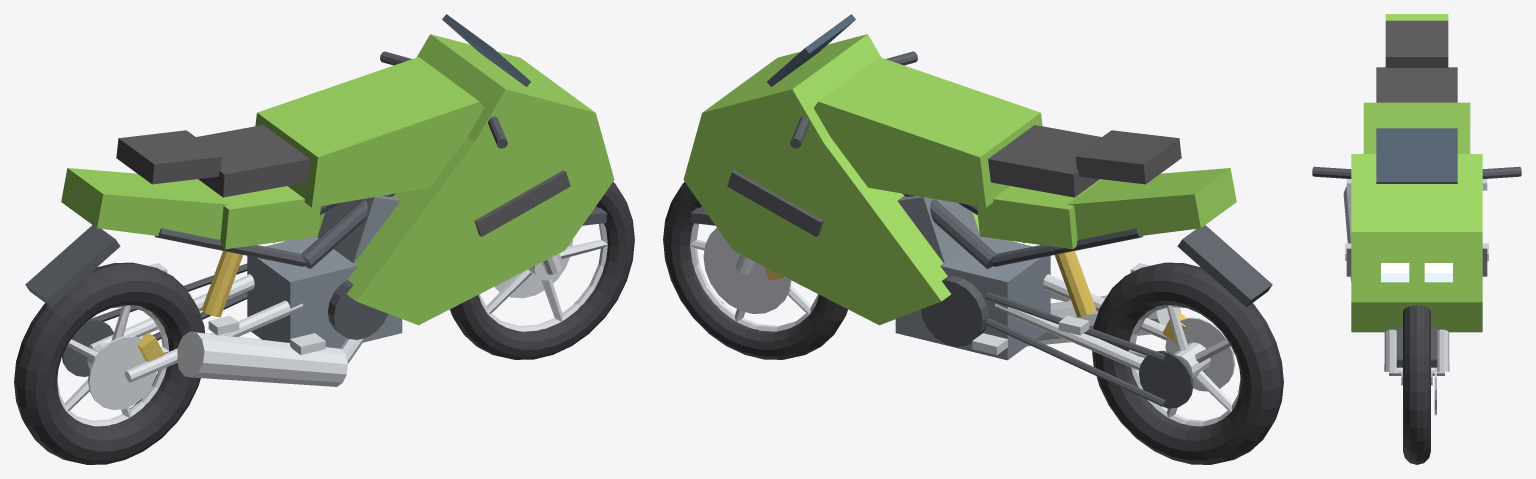
The model's file is kawasaki-ninja-zx-25r-2021-2026.glb.
3 views of the same model, side by side, from view 1: azimuth 30°, elevation 25°; view 2: azimuth 150°, elevation 25°; view 3: azimuth 270°, elevation 25° (orthographic). The views are drawn at different scales.
Parts seen in each view (by area): view 1: Bodi_Depan, Bodi_Utama, Roda_Ban, Mesin_Blok, Jok_Motor, Knalpot, Velg_Roda, Piringan_Rem, Spakbor, Rangka, Swing_Arm, Rantai (+6 smaller); view 2: Bodi_Depan, Bodi_Utama, Roda_Ban, Jok_Motor, Mesin_Blok, Piringan_Rem, Rantai, Velg_Roda, Spakbor, Rangka, Cover_Mesin, Swing_Arm (+6 smaller); view 3: Bodi_Depan, Jok_Motor, Windshield_Visor, Roda_Ban, Bodi_Utama, Suspensi_Depan, Lampu_Depan, Master_Rem_Stang, Spakbor, Knalpot, Aksen_Bodi, Footstep.
Part boxes in pixels (x1=…): Bodi_Depan: x1=284, y1=34, x2=614, y2=325; Bodi_Utama: x1=61, y1=57, x2=484, y2=249; Roda_Ban: x1=14, y1=182, x2=634, y2=464; Mesin_Blok: x1=247, y1=196, x2=402, y2=348; Jok_Motor: x1=116, y1=125, x2=309, y2=197; Knalpot: x1=177, y1=331, x2=365, y2=386; Velg_Roda: x1=57, y1=223, x2=607, y2=426; Piringan_Rem: x1=88, y1=240, x2=572, y2=409; Spakbor: x1=25, y1=207, x2=607, y2=307; Rangka: x1=155, y1=193, x2=395, y2=268; Swing_Arm: x1=89, y1=274, x2=303, y2=382; Rantai: x1=62, y1=263, x2=247, y2=376; Bodi_Depan: x1=683, y1=34, x2=1013, y2=325; Bodi_Utama: x1=813, y1=57, x2=1236, y2=249; Roda_Ban: x1=663, y1=182, x2=1283, y2=464; Jok_Motor: x1=988, y1=125, x2=1181, y2=197; Mesin_Blok: x1=895, y1=196, x2=1050, y2=360; Piringan_Rem: x1=703, y1=228, x2=1235, y2=391; Rantai: x1=985, y1=292, x2=1193, y2=408; Velg_Roda: x1=690, y1=223, x2=1240, y2=426; Spakbor: x1=690, y1=207, x2=1272, y2=307; Rangka: x1=902, y1=193, x2=1142, y2=268; Cover_Mesin: x1=921, y1=276, x2=988, y2=346; Swing_Arm: x1=994, y1=274, x2=1166, y2=370; Bodi_Depan: x1=1351, y1=154, x2=1482, y2=332; Jok_Motor: x1=1376, y1=20, x2=1457, y2=102; Windshield_Visor: x1=1376, y1=128, x2=1457, y2=183; Roda_Ban: x1=1403, y1=305, x2=1430, y2=464; Bodi_Utama: x1=1363, y1=14, x2=1470, y2=153; Suspensi_Depan: x1=1384, y1=329, x2=1449, y2=375; Lampu_Depan: x1=1381, y1=263, x2=1452, y2=282; Master_Rem_Stang: x1=1312, y1=166, x2=1521, y2=178; Spakbor: x1=1396, y1=327, x2=1437, y2=367; Knalpot: x1=1343, y1=186, x2=1351, y2=281; Aksen_Bodi: x1=1346, y1=248, x2=1487, y2=276; Footstep: x1=1345, y1=179, x2=1488, y2=260.
Size of the model in its own units: 1.98 by 1.05 by 0.6701.
